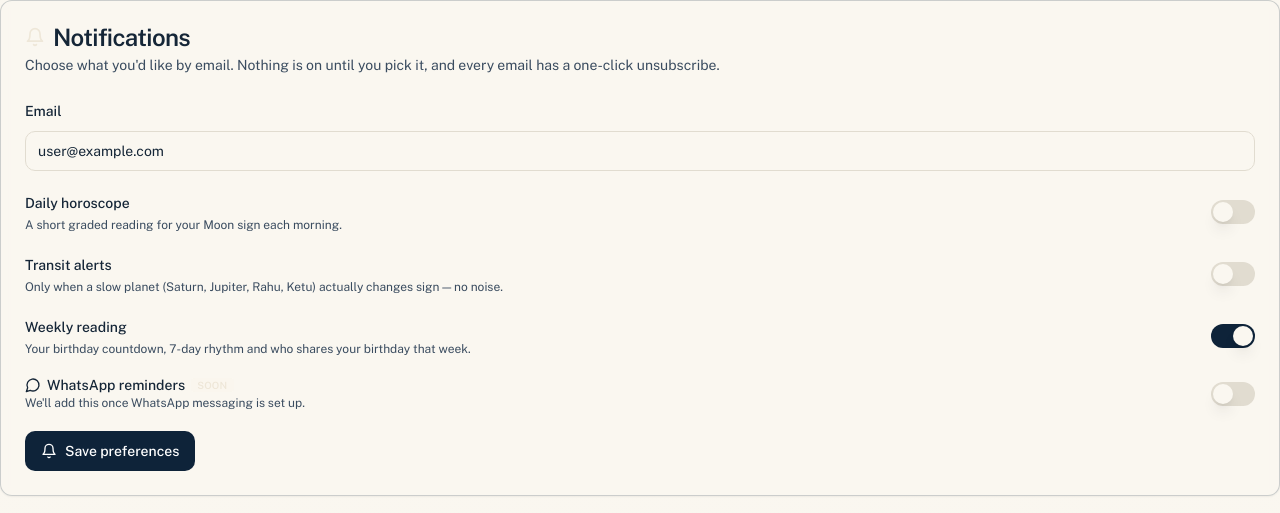
Test: NotificationOptIn › posts explicit opt-in preferences including rashiIndex when known
Click the button "Save preferences" at (110, 451), box [25,431,195,471]
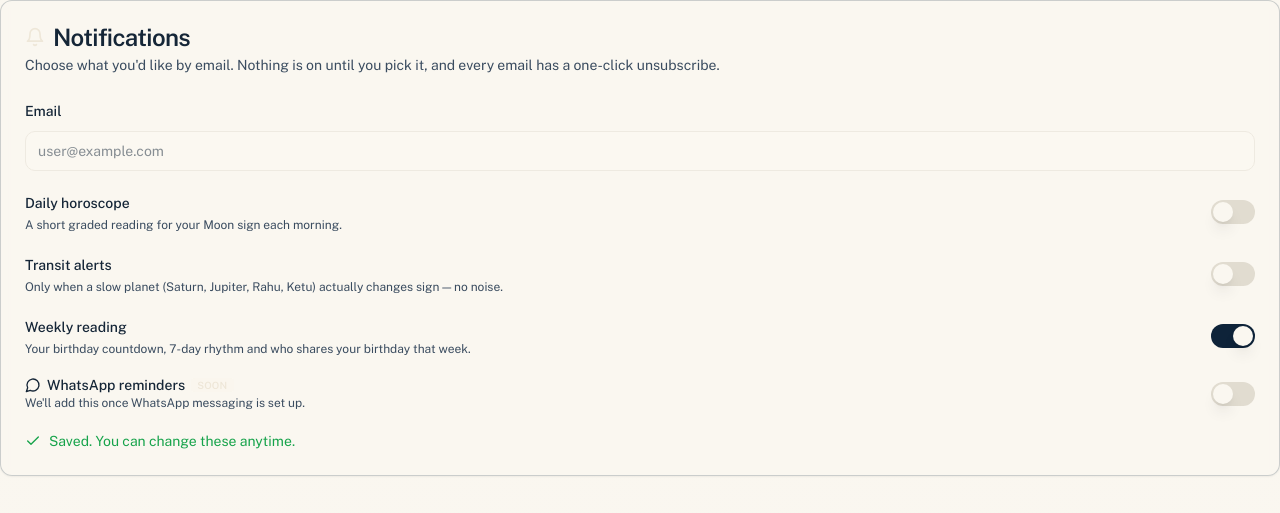
Expected: the text "Saved. You can change these anytime." is shown, [25,433,295,449]
